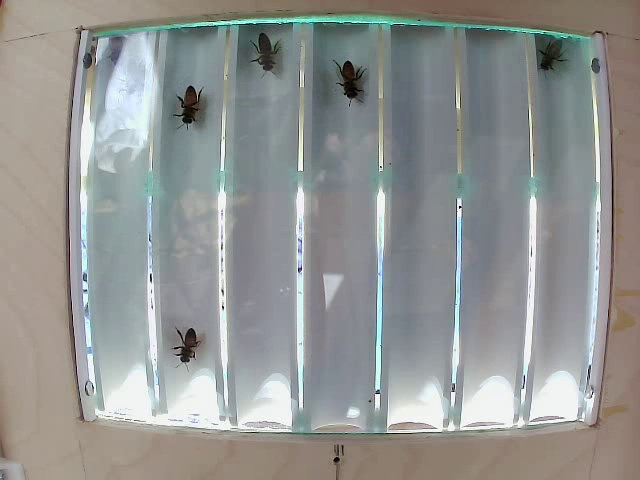bee: (165, 312, 216, 364), (238, 25, 278, 76), (166, 80, 205, 127), (331, 63, 367, 113), (540, 36, 568, 82)
